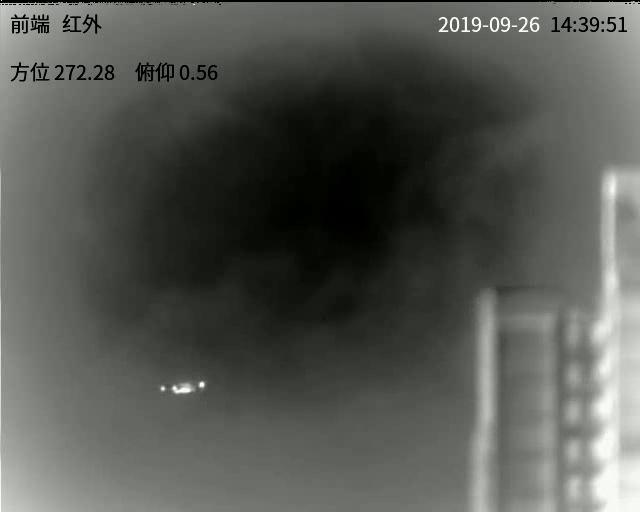DRONE: (159, 379, 208, 398)
